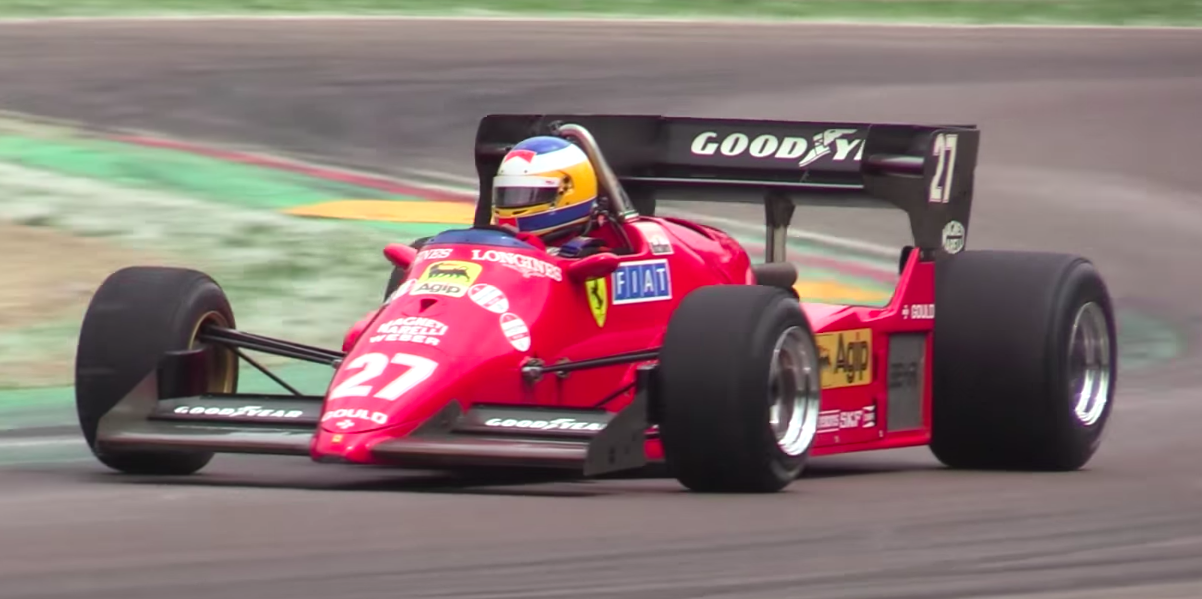f1_car: (59, 97, 1136, 521)
